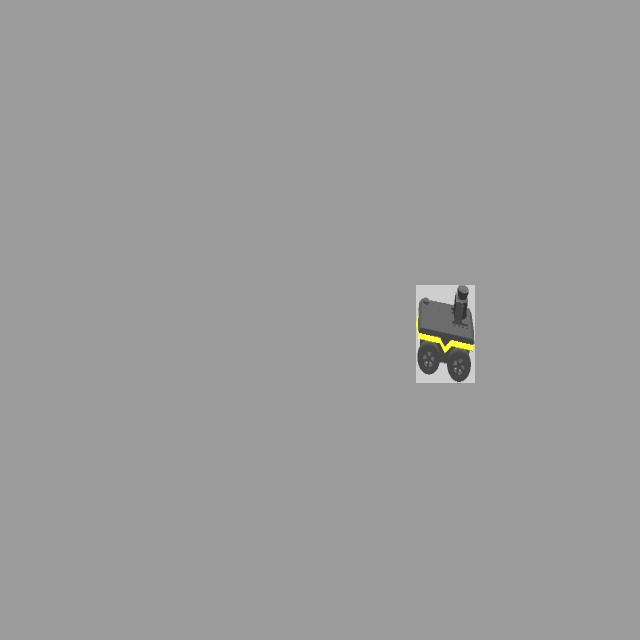jackal: (416, 286, 475, 384)
